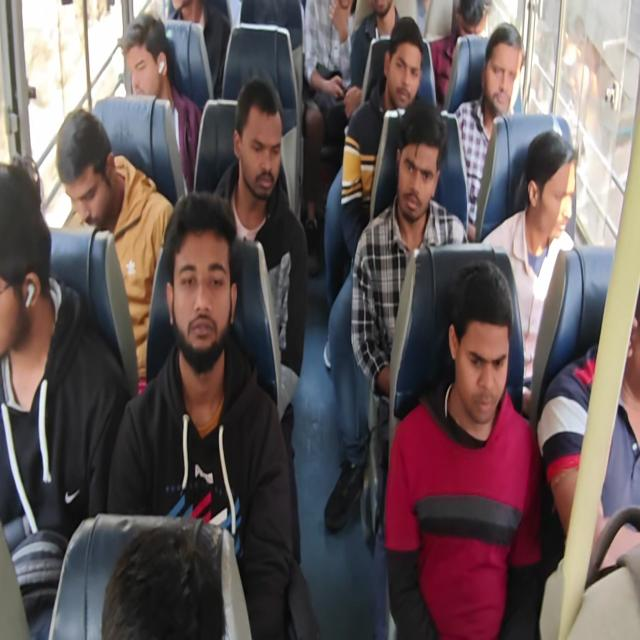person: (159, 193, 247, 375), (222, 72, 300, 234), (122, 519, 226, 640), (0, 157, 56, 361), (452, 274, 518, 440), (61, 106, 121, 239), (527, 148, 584, 266), (113, 36, 175, 124), (392, 124, 438, 224), (378, 34, 422, 109), (488, 38, 520, 124), (454, 0, 489, 63), (626, 268, 640, 406), (161, 0, 200, 33), (369, 0, 393, 32)
